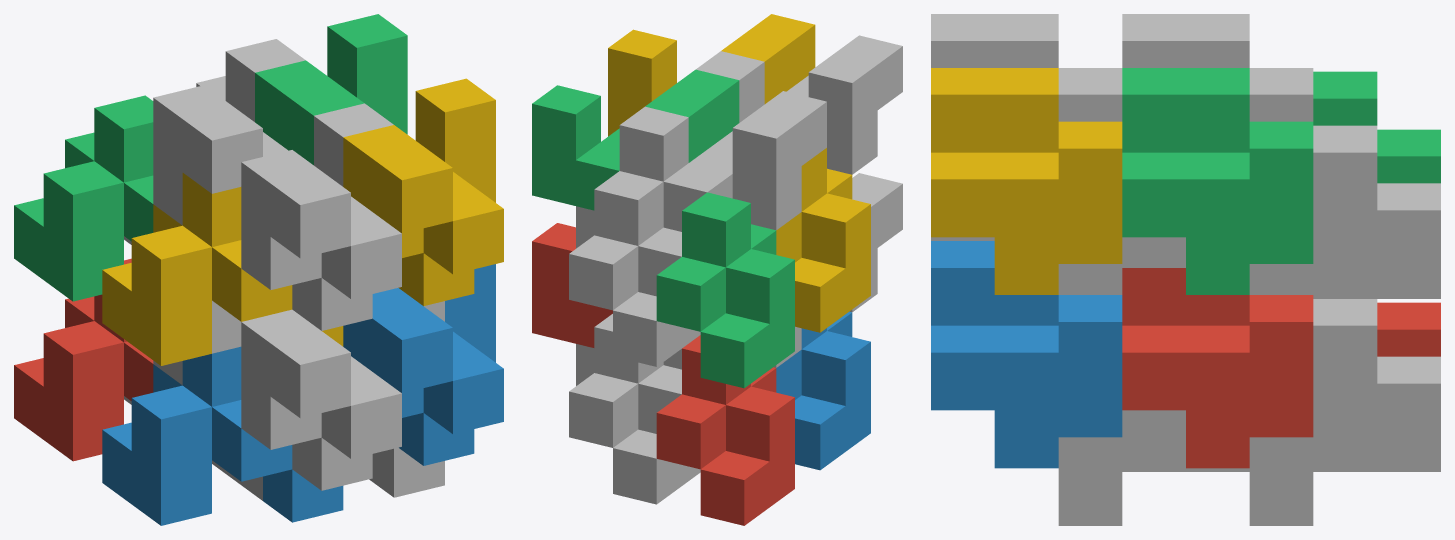
Rendered from tiling.obj.
The picture shows the model from 3 angles, left to right: view 1: azimuth 30°, elevation 25°; view 2: azimuth 150°, elevation 25°; view 3: azimuth 270°, elevation 25°; orthographic projection. The views are drawn at different scales.
Visible parts, largest first — view 1: copy_2_domain_8, copy_2_domain_4, copy_1_domain_2, copy_2_domain_2, copy_1_domain_4, copy_2_domain_6, copy_1_domain_3, copy_1_domain_1, copy_2_domain_3, copy_2_domain_7, copy_1_domain_6, copy_2_domain_1; view 2: copy_1_domain_3, copy_2_domain_3, copy_1_domain_1, copy_1_domain_7, copy_2_domain_7, copy_1_domain_5, copy_1_domain_4, copy_2_domain_4, copy_1_domain_2, copy_2_domain_8, copy_2_domain_5, copy_2_domain_2 (+1 smaller); view 3: copy_2_domain_8, copy_2_domain_7, copy_2_domain_6, copy_2_domain_5, copy_1_domain_5, copy_1_domain_7, copy_2_domain_3, copy_2_domain_4, copy_1_domain_6, copy_1_domain_3, copy_1_domain_8, copy_1_domain_1.
Boxes of the visible parts, <box> form: copy_2_domain_8: <box>343,78,503,306</box>; copy_2_domain_4: <box>241,103,401,330</box>; copy_1_domain_2: <box>102,346,343,525</box>; copy_2_domain_2: <box>241,309,401,490</box>; copy_1_domain_4: <box>102,173,343,365</box>; copy_2_domain_6: <box>343,264,503,465</box>; copy_1_domain_3: <box>14,95,153,301</box>; copy_1_domain_1: <box>14,258,153,461</box>; copy_2_domain_3: <box>153,39,305,225</box>; copy_2_domain_7: <box>255,14,407,165</box>; copy_1_domain_6: <box>212,447,444,500</box>; copy_2_domain_1: <box>153,300,241,385</box>; copy_1_domain_3: <box>656,192,794,388</box>; copy_2_domain_3: <box>619,91,826,231</box>; copy_1_domain_1: <box>656,335,794,525</box>; copy_1_domain_7: <box>569,171,700,366</box>; copy_2_domain_7: <box>532,69,739,210</box>; copy_1_domain_5: <box>569,314,700,504</box>; copy_1_domain_4: <box>776,148,870,332</box>; copy_2_domain_4: <box>696,35,902,174</box>; copy_1_domain_2: <box>776,311,870,470</box>; copy_2_domain_8: <box>608,14,815,136</box>; copy_2_domain_5: <box>532,223,612,347</box>; copy_2_domain_2: <box>849,173,902,312</box>; copy_2_domain_8: <box>931,68,1122,294</box>; copy_2_domain_7: <box>1122,68,1313,294</box>; copy_2_domain_6: <box>931,241,1122,468</box>; copy_2_domain_5: <box>1122,268,1313,468</box>; copy_1_domain_5: <box>1249,299,1440,525</box>; copy_1_domain_7: <box>1249,125,1440,298</box>; copy_2_domain_3: <box>1122,14,1313,121</box>; copy_2_domain_4: <box>931,14,1122,121</box>; copy_1_domain_6: <box>1058,410,1249,525</box>; copy_1_domain_3: <box>1313,71,1440,183</box>; copy_1_domain_8: <box>1058,237,1185,294</box>; copy_1_domain_1: <box>1377,302,1440,356</box>.
Size of the model in its own units: 6 by 7 by 8.
